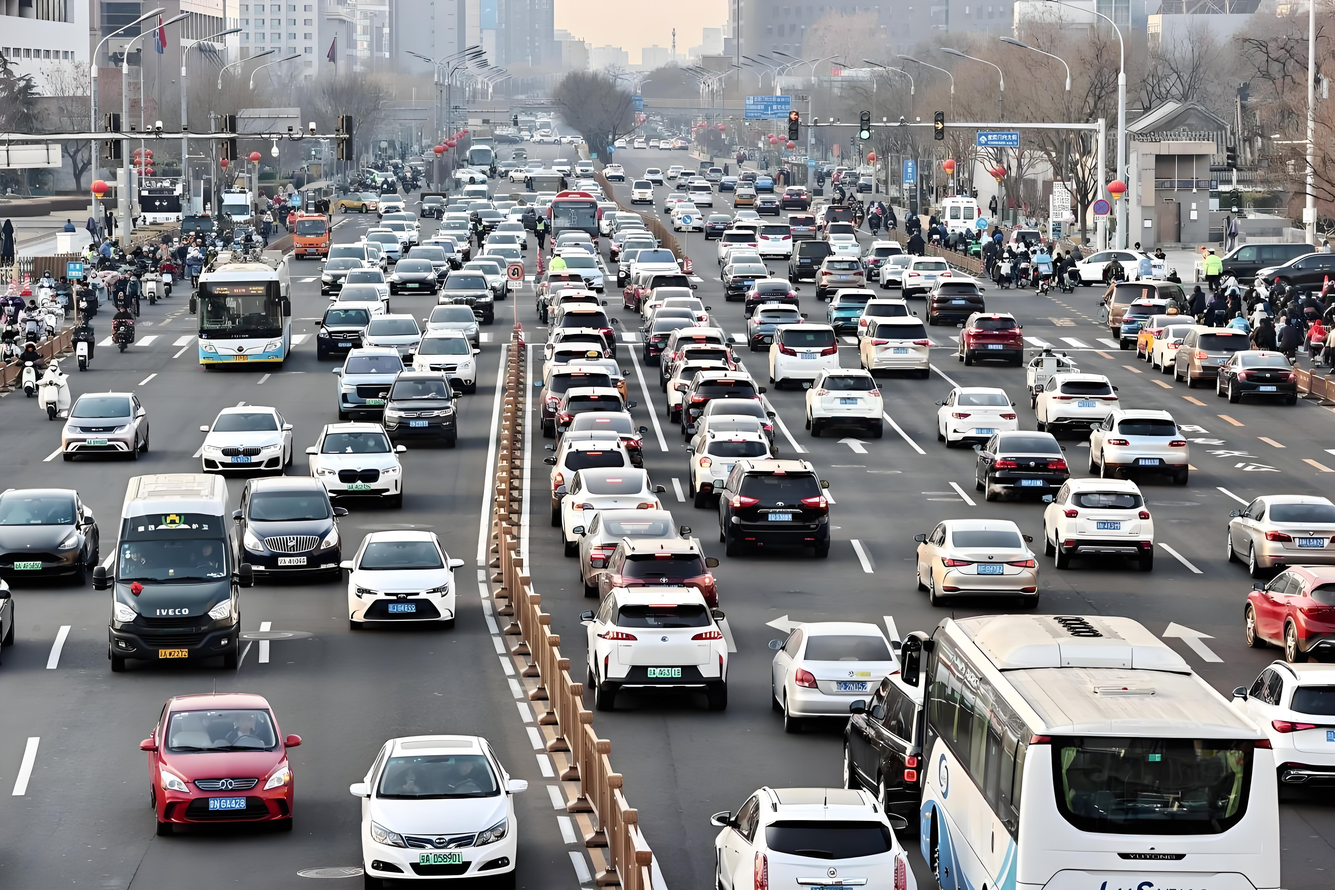bus: (192, 257, 306, 385)
car: (354, 733, 541, 884), (733, 600, 919, 721), (147, 704, 304, 841), (915, 520, 1060, 629), (337, 526, 481, 629), (234, 467, 378, 570), (0, 472, 144, 575), (387, 232, 531, 335), (327, 204, 471, 307), (579, 509, 723, 612), (646, 359, 790, 462), (33, 378, 176, 481), (328, 335, 471, 438), (317, 279, 460, 382), (591, 589, 734, 692), (549, 421, 692, 524), (691, 448, 835, 550), (510, 335, 653, 437), (1037, 468, 1170, 577), (268, 407, 412, 485), (966, 428, 1084, 513), (1217, 494, 1335, 576), (791, 366, 901, 452), (920, 379, 1035, 459), (1150, 315, 1256, 391), (849, 295, 939, 381), (1093, 399, 1181, 480), (652, 330, 726, 396), (773, 324, 846, 390), (950, 313, 1016, 368)
